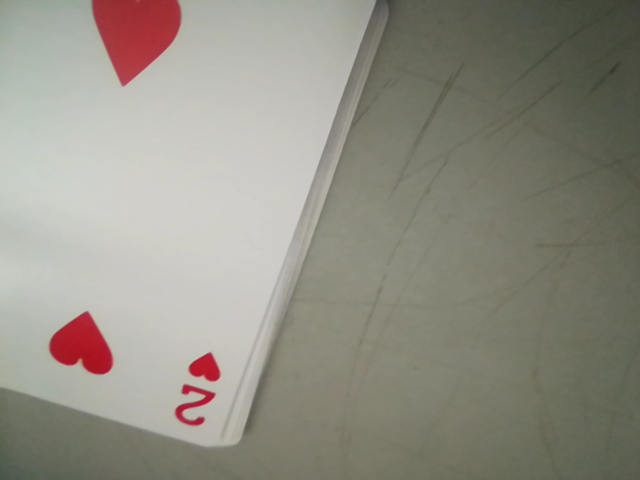hx 2: (168, 367, 231, 435)
